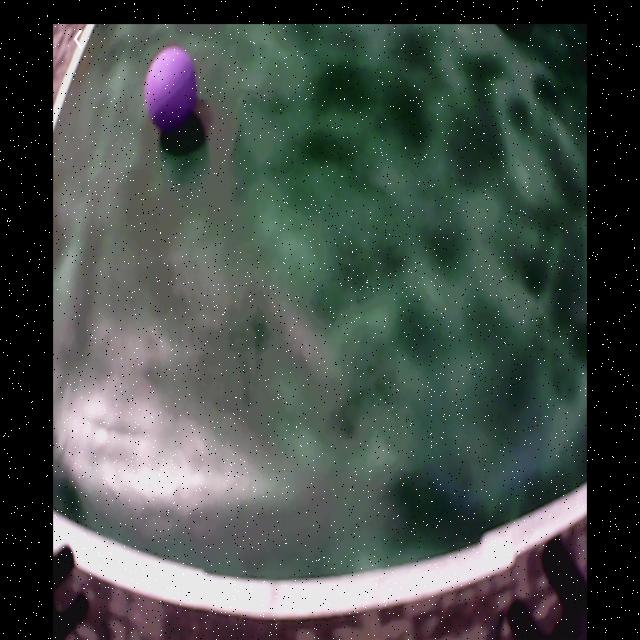ball: (145, 48, 199, 132)
